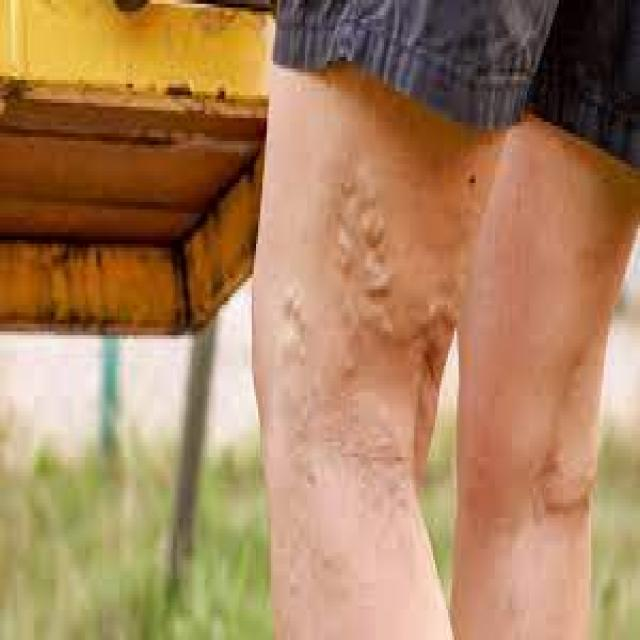Varicose: (260, 127, 476, 610)
